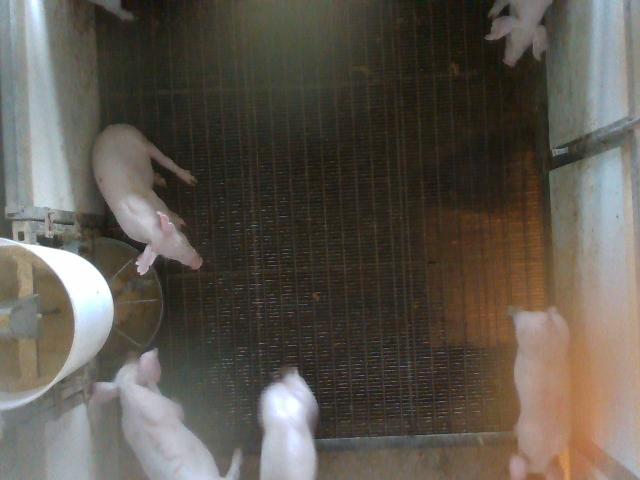pig-3: (92, 349, 221, 479)
pig-4: (510, 306, 570, 479)
